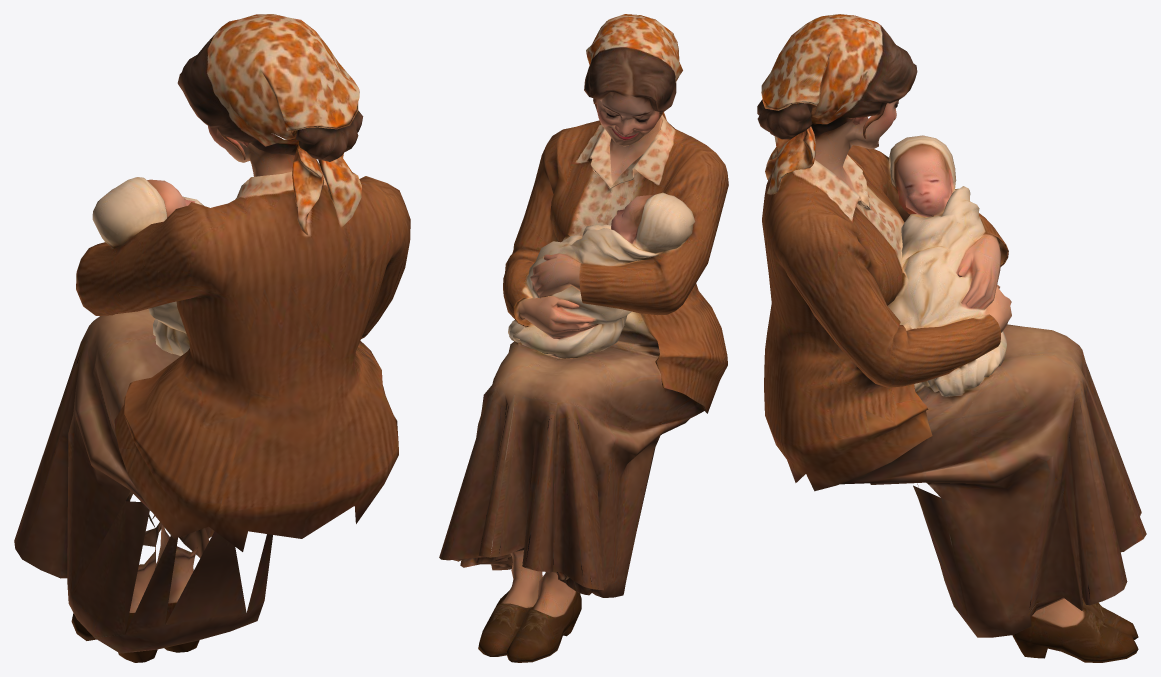
File: mother_baby.glb
3 renders of one model, left to right at view 1: azimuth 30°, elevation 25°; view 2: azimuth 150°, elevation 25°; view 3: azimuth 270°, elevation 25°, orthographic. The views are drawn at different scales.
Visible parts, largest first — view 1: Body; view 2: Body; view 3: Body.
Boxes of the visible parts, x1,y1,x2,y2 form: Body: [14, 14, 410, 662]; Body: [439, 14, 728, 662]; Body: [757, 14, 1146, 662].
Bounding box in the file's own units: 0.5282 × 1.38 × 0.7802.
Materials: 1 (1 with a texture image).
